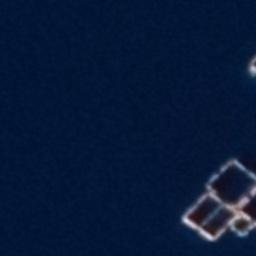square_solid: (176, 185, 241, 246), (202, 155, 256, 214)
